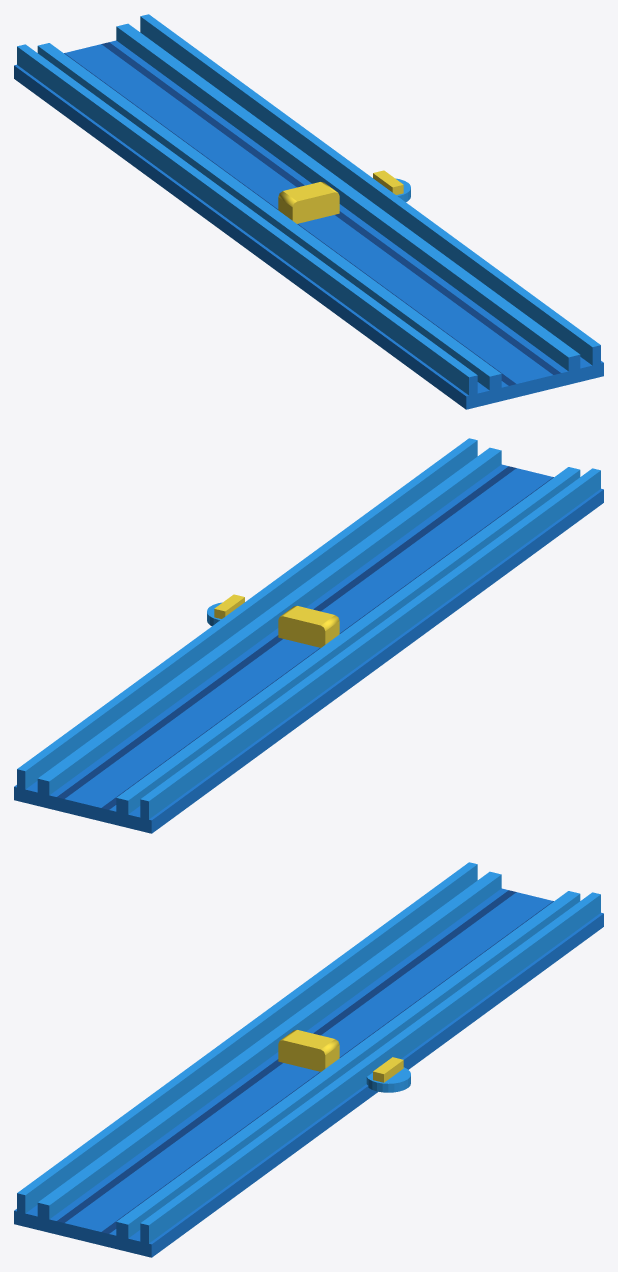
The model's file is Track_Stop.fbx.
The picture shows the model from 3 angles, top to bottom: view 1: azimuth 30°, elevation 25°; view 2: azimuth 150°, elevation 25°; view 3: azimuth 330°, elevation 25°; orthographic projection.
Visible parts, largest first — view 1: Bed, Stop tab; view 2: Bed, Stop tab; view 3: Bed, Stop tab, Lever base.
Boxes of the visible parts, bbox=[...] form: Bed: bbox=[14, 14, 603, 409]; Stop tab: bbox=[278, 182, 339, 223]; Bed: bbox=[14, 438, 603, 833]; Stop tab: bbox=[278, 606, 339, 647]; Bed: bbox=[14, 862, 603, 1257]; Stop tab: bbox=[278, 1030, 339, 1071]; Lever base: bbox=[366, 1067, 410, 1092].
Bounding box in the file's own units: 129 × 26.25 × 600.
